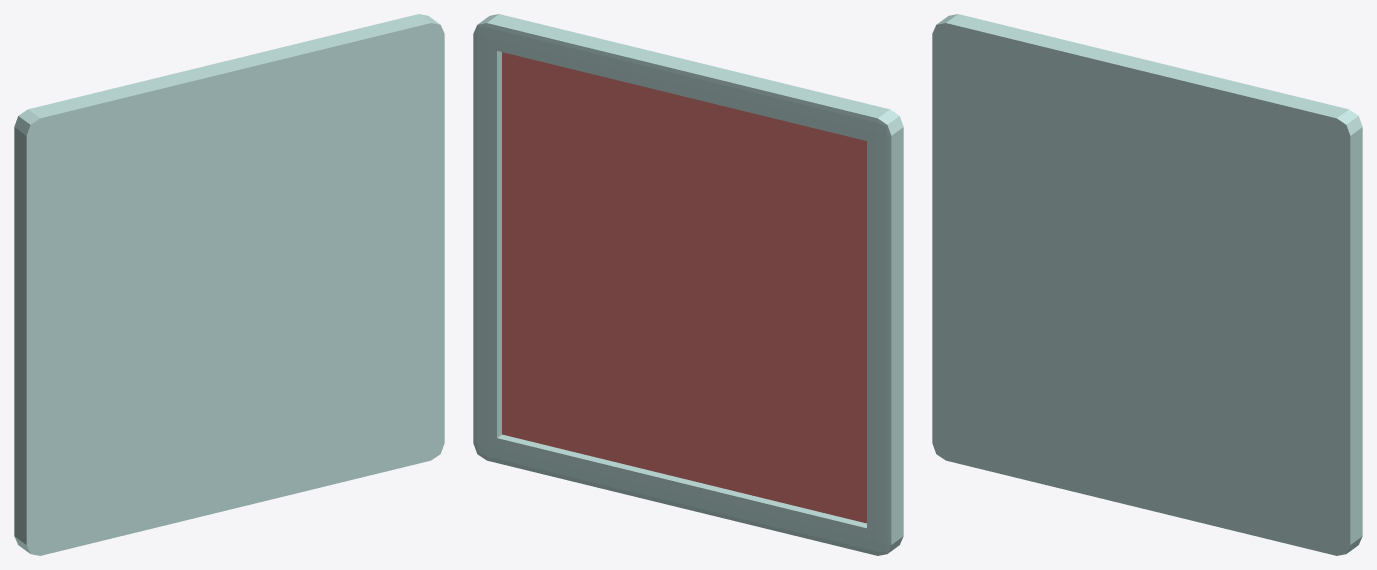
Rendered from Glass_Screen.fbx.
3 views of the same model, side by side, from view 1: azimuth 30°, elevation 25°; view 2: azimuth 150°, elevation 25°; view 3: azimuth 330°, elevation 25° (orthographic).
Parts seen in each view (by area): view 1: Cube.001; view 2: Cube.001; view 3: Cube.001.
Boxes of the visible parts, bbox=[...] form: Cube.001: bbox=[14, 14, 444, 555]; Cube.001: bbox=[473, 14, 903, 555]; Cube.001: bbox=[932, 14, 1362, 555].
Bounding box in the file's own units: 200 × 200 × 10.38.
